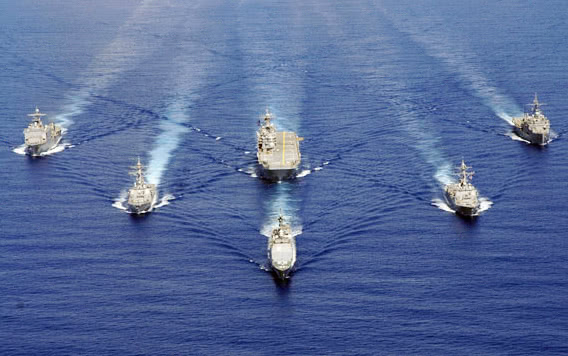warship: (253, 105, 302, 179), (441, 161, 482, 217), (512, 94, 555, 146), (267, 209, 297, 281), (122, 155, 156, 217), (22, 112, 62, 158)
